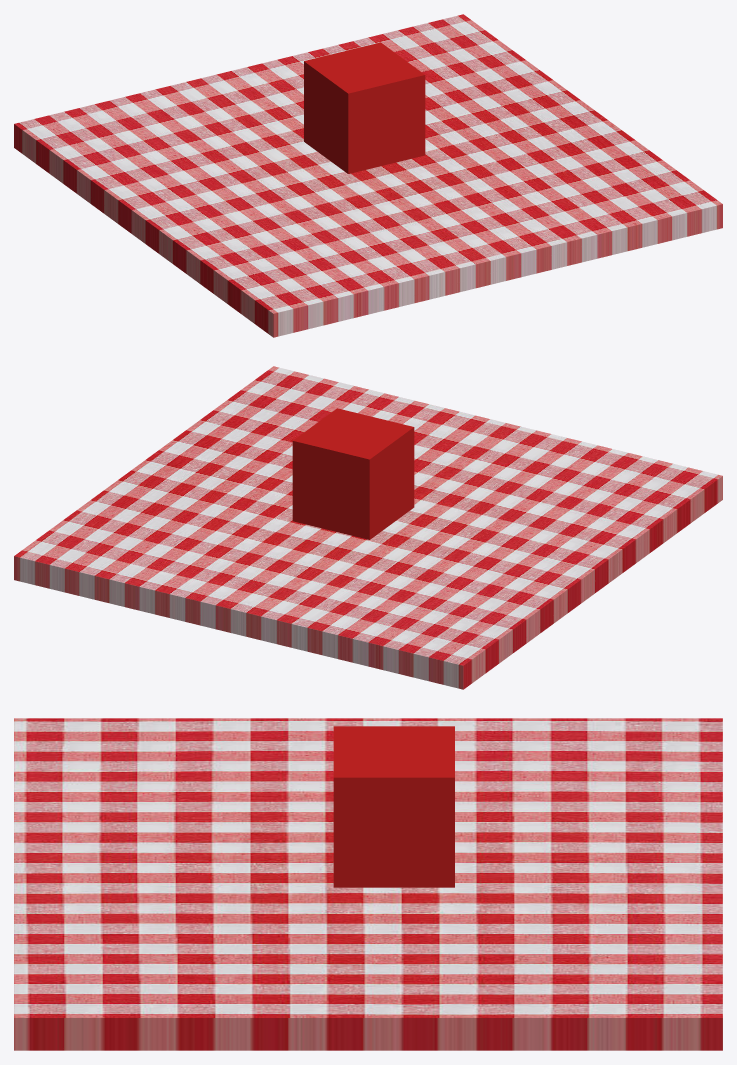
The model's file is CameraTest.obj.
3 renders of one model, top to bottom at view 1: azimuth 30°, elevation 25°; view 2: azimuth 150°, elevation 25°; view 3: azimuth 270°, elevation 25°, orthographic. The views are drawn at different scales.
Parts seen in each view (by area): view 1: Plane, Cube; view 2: Plane, Cube; view 3: Plane, Cube.
Part boxes in pixels (<box>): Plane: <box>14,14,722,337</box>; Cube: <box>304,42,425,173</box>; Plane: <box>14,366,722,689</box>; Cube: <box>292,408,414,539</box>; Plane: <box>14,718,722,1050</box>; Cube: <box>333,726,454,887</box>.
Size of the model in its own units: 11.68 by 2.77 by 11.68.
